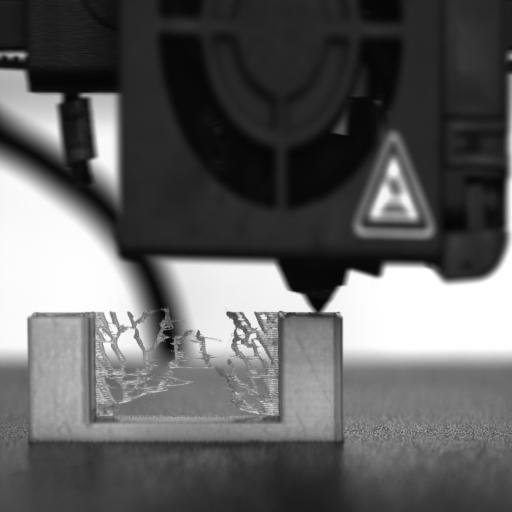spaghetti_and_stringing: (94, 308, 280, 416)
